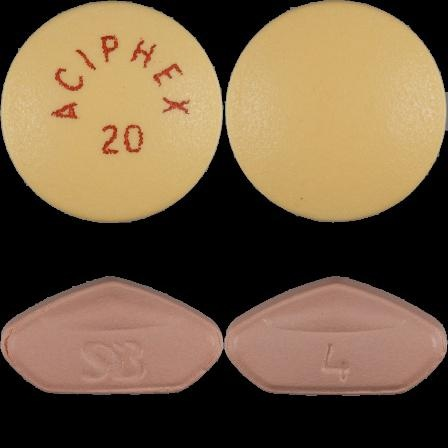54868-4185: (0, 0, 224, 224)
